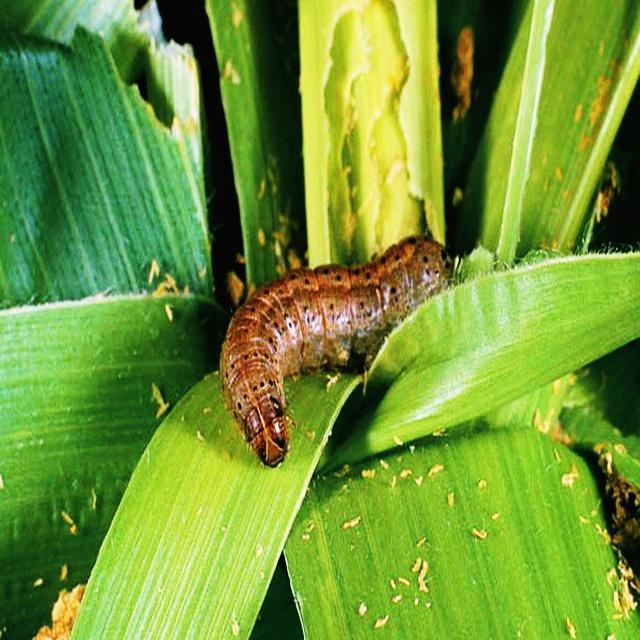gusano_cogollero: (212, 231, 459, 469)
